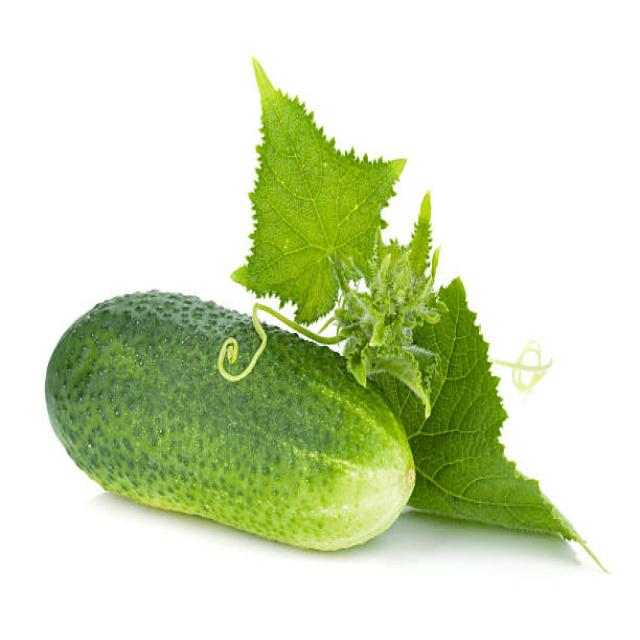cucumber: (45, 286, 415, 552)
